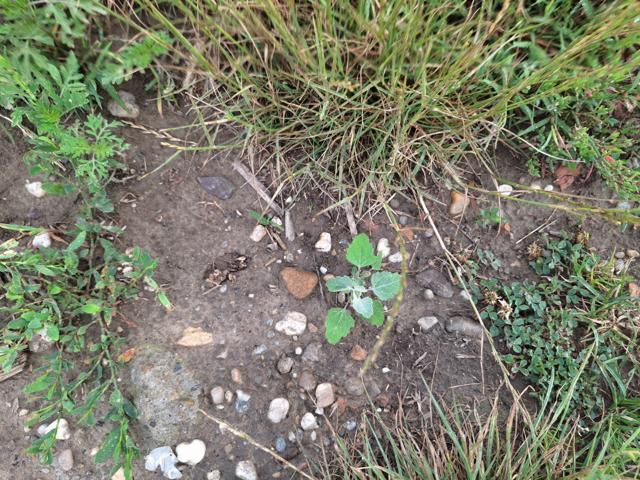bad weed: (0, 2, 147, 467), (477, 239, 640, 430), (302, 231, 411, 349)
